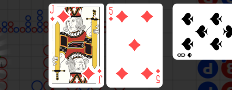5D: (155, 68, 162, 85)
JD: (97, 68, 103, 85)
